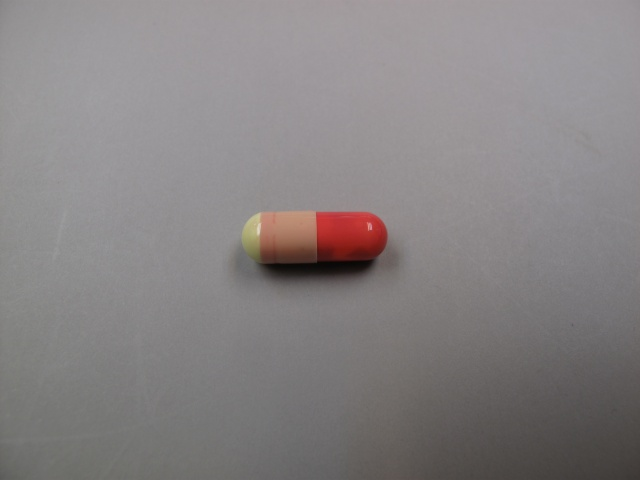capsule: (241, 208, 391, 263)
